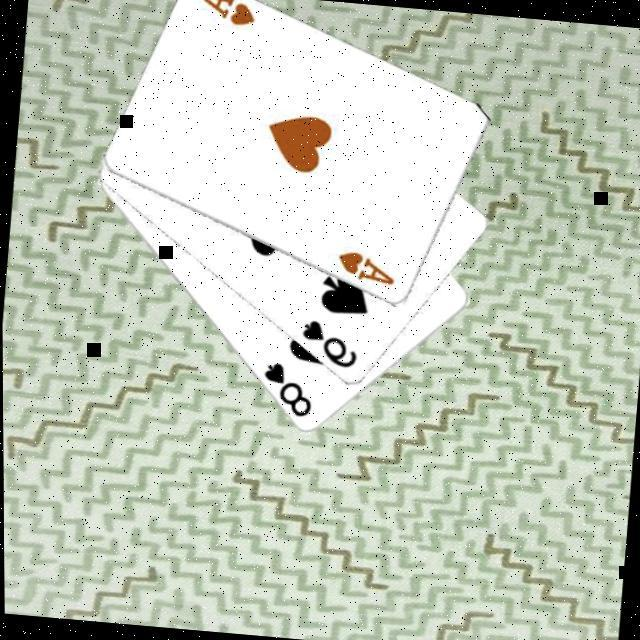6S: (294, 316, 360, 373)
8S: (254, 359, 315, 422)
AH: (329, 248, 396, 289), (189, 0, 257, 32)
